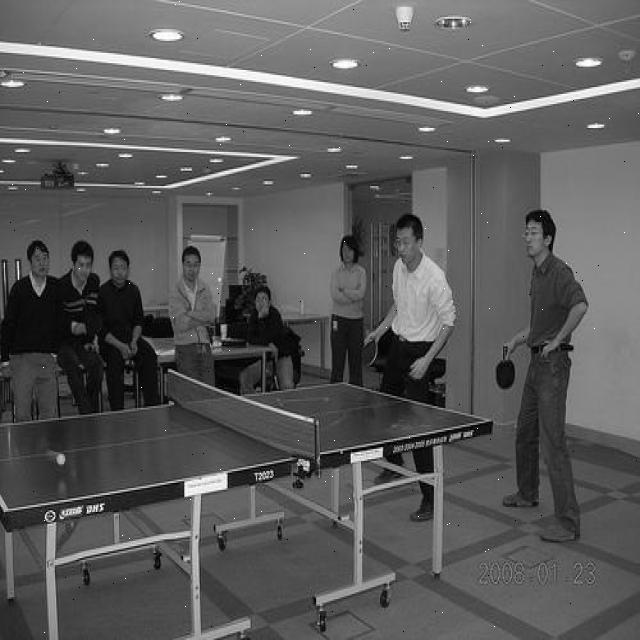ping-pong-ball: (55, 452, 67, 466)
